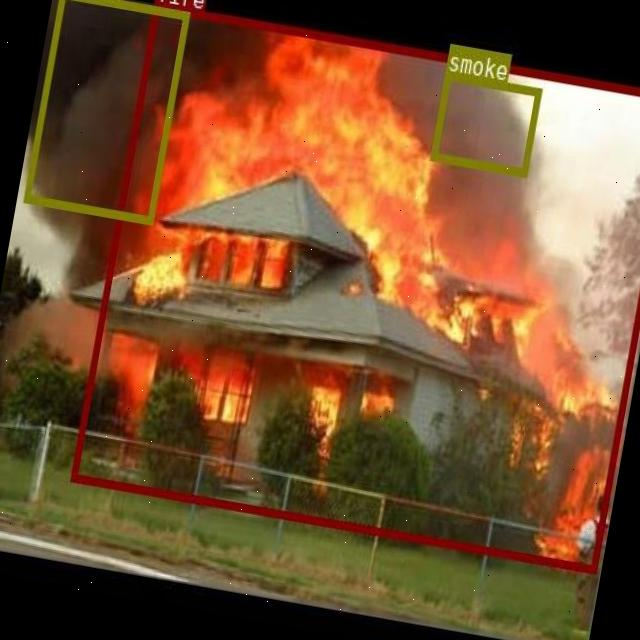fire: (69, 0, 640, 571)
smoke: (22, 0, 187, 222), (430, 71, 540, 175)
